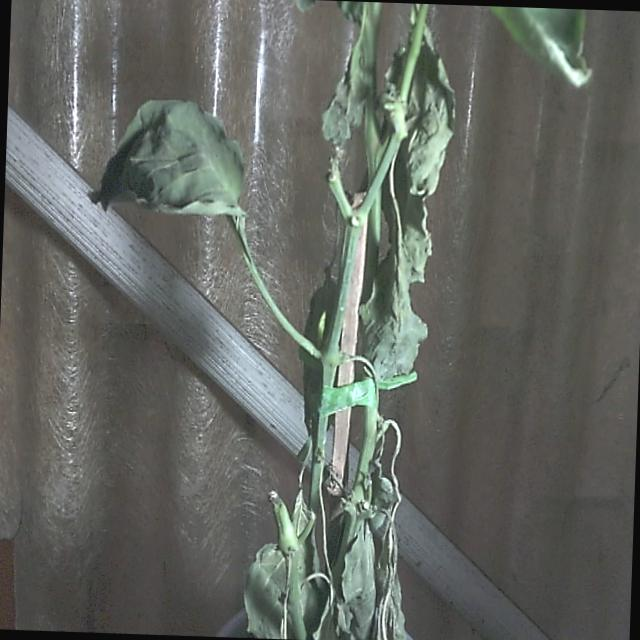Leaf: (88, 90, 250, 220)
